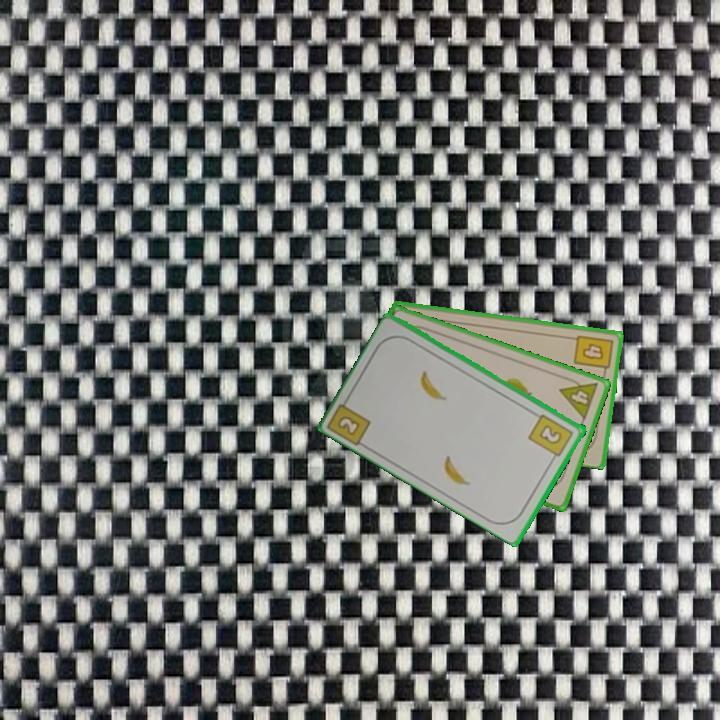2b: (525, 410, 577, 464), (334, 412, 363, 438)
4b: (570, 331, 616, 378)
4p: (556, 372, 601, 423)
